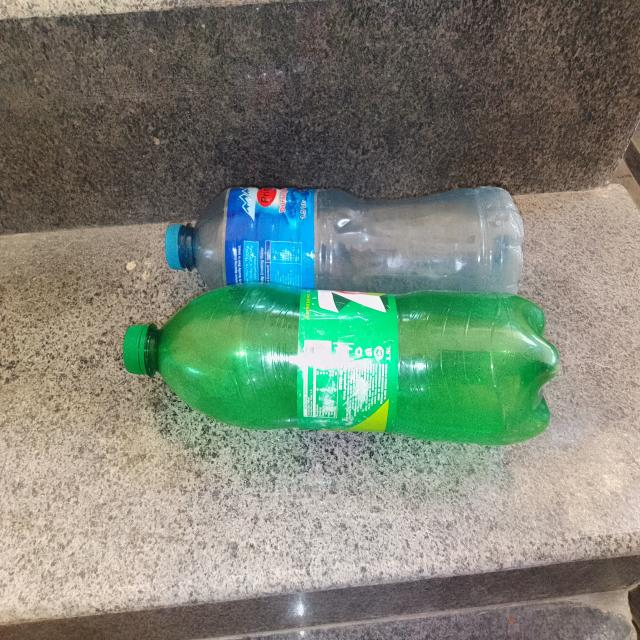bottle: (116, 281, 569, 461), (141, 178, 536, 292)
cap: (120, 322, 154, 381), (159, 220, 187, 272)
label: (294, 286, 398, 437), (221, 184, 323, 286)
